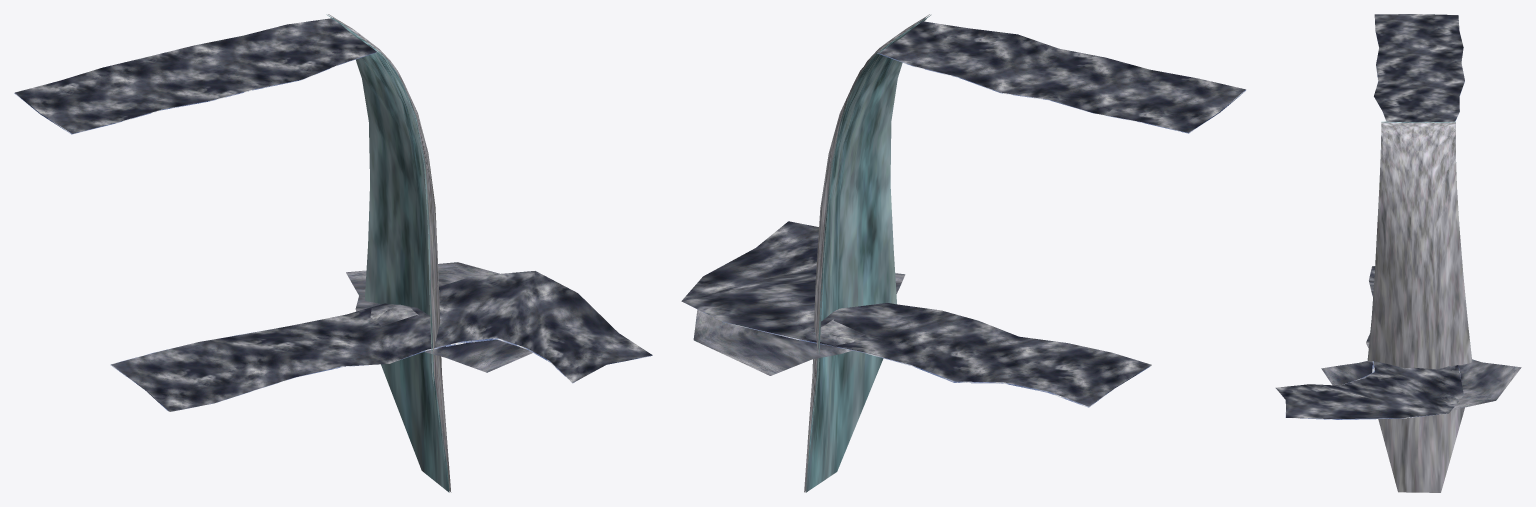
The model's file is LONE_MOUNTAIN_WATERFALLS_ARKENSTONE_WATERWAY04.fbx.
3 views of the same model, side by side, from view 1: azimuth 30°, elevation 25°; view 2: azimuth 150°, elevation 25°; view 3: azimuth 270°, elevation 25° (orthographic). The views are drawn at different scales.
Parts seen in each view (by area): view 1: LONE_MOUNTAIN_WATERFALLS_ARKENSTONE_WATERWAY04; view 2: LONE_MOUNTAIN_WATERFALLS_ARKENSTONE_WATERWAY04; view 3: LONE_MOUNTAIN_WATERFALLS_ARKENSTONE_WATERWAY04.
Boxes of the visible parts, x1,y1,x2,y2 form: LONE_MOUNTAIN_WATERFALLS_ARKENSTONE_WATERWAY04: (14,14,652,492); LONE_MOUNTAIN_WATERFALLS_ARKENSTONE_WATERWAY04: (681,14,1245,492); LONE_MOUNTAIN_WATERFALLS_ARKENSTONE_WATERWAY04: (1275,14,1521,492).
Bounding box in the file's own units: 197355 × 167976 × 110169.
Materials: 5 (5 with a texture image).
